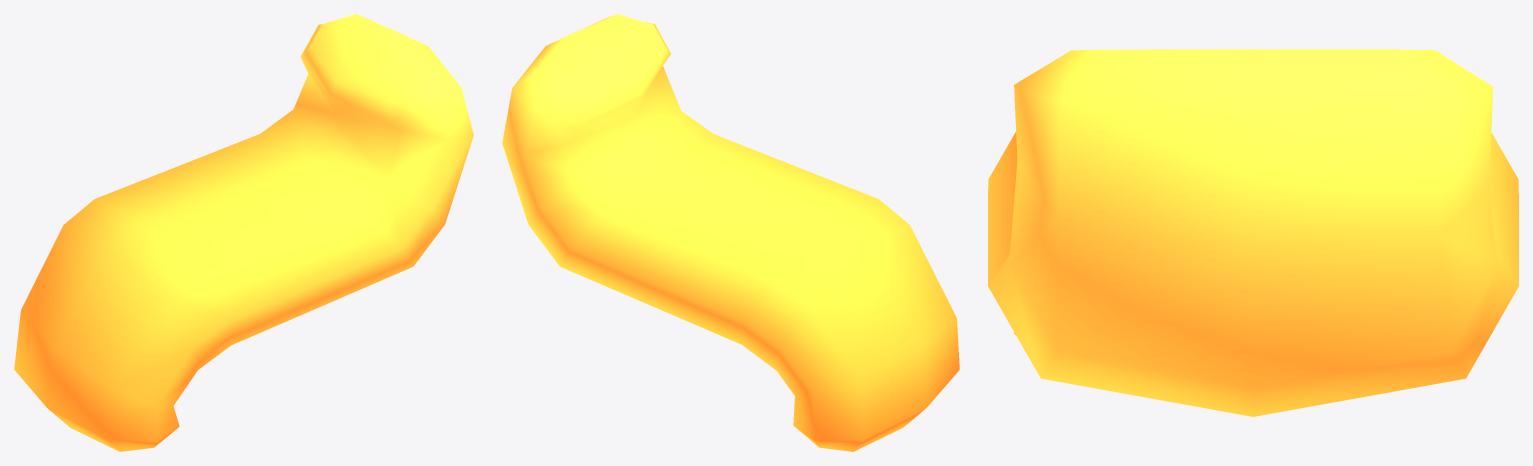
File: gold_and_steel_guard_023.glb
3 views of the same model, side by side, from view 1: azimuth 30°, elevation 25°; view 2: azimuth 150°, elevation 25°; view 3: azimuth 270°, elevation 25° (orthographic). The views are drawn at different scales.
Parts seen in each view (by area): view 1: gold_and_steel_guard_023; view 2: gold_and_steel_guard_023; view 3: gold_and_steel_guard_023.
Boxes of the visible parts, x1,y1,x2,y2 form: gold_and_steel_guard_023: [14, 14, 473, 451]; gold_and_steel_guard_023: [502, 14, 959, 451]; gold_and_steel_guard_023: [988, 49, 1518, 416].
Size of the model in its own units: 5.51 by 4.2 by 3.22.
Materials: 1 (1 with a texture image).
